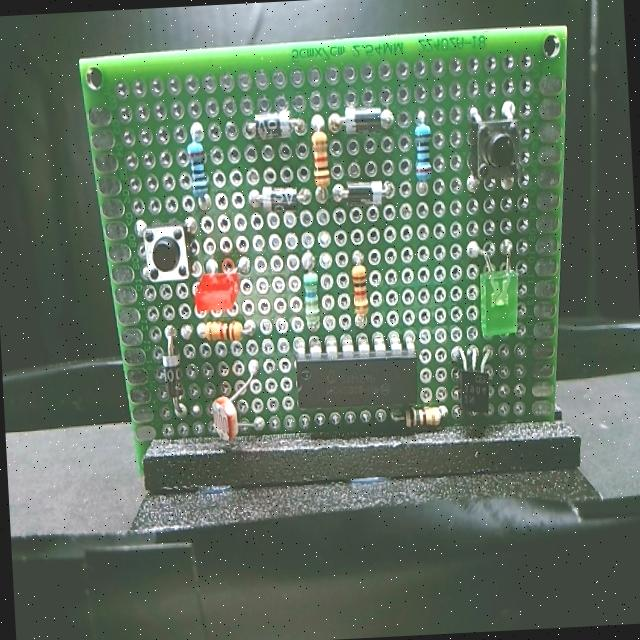IC: (289, 345, 422, 417)
cds: (211, 380, 240, 452)
diode: (250, 174, 300, 218), (158, 335, 186, 412), (336, 104, 387, 139), (248, 106, 297, 142), (338, 175, 385, 210)
led: (474, 255, 524, 340), (190, 258, 246, 318)
resistor: (173, 130, 230, 200), (342, 245, 378, 332), (403, 121, 438, 183), (396, 398, 452, 435), (301, 258, 327, 332), (196, 317, 247, 349), (306, 125, 328, 197)
switch: (461, 108, 541, 190), (131, 215, 195, 292)
transistor: (452, 352, 493, 420)
